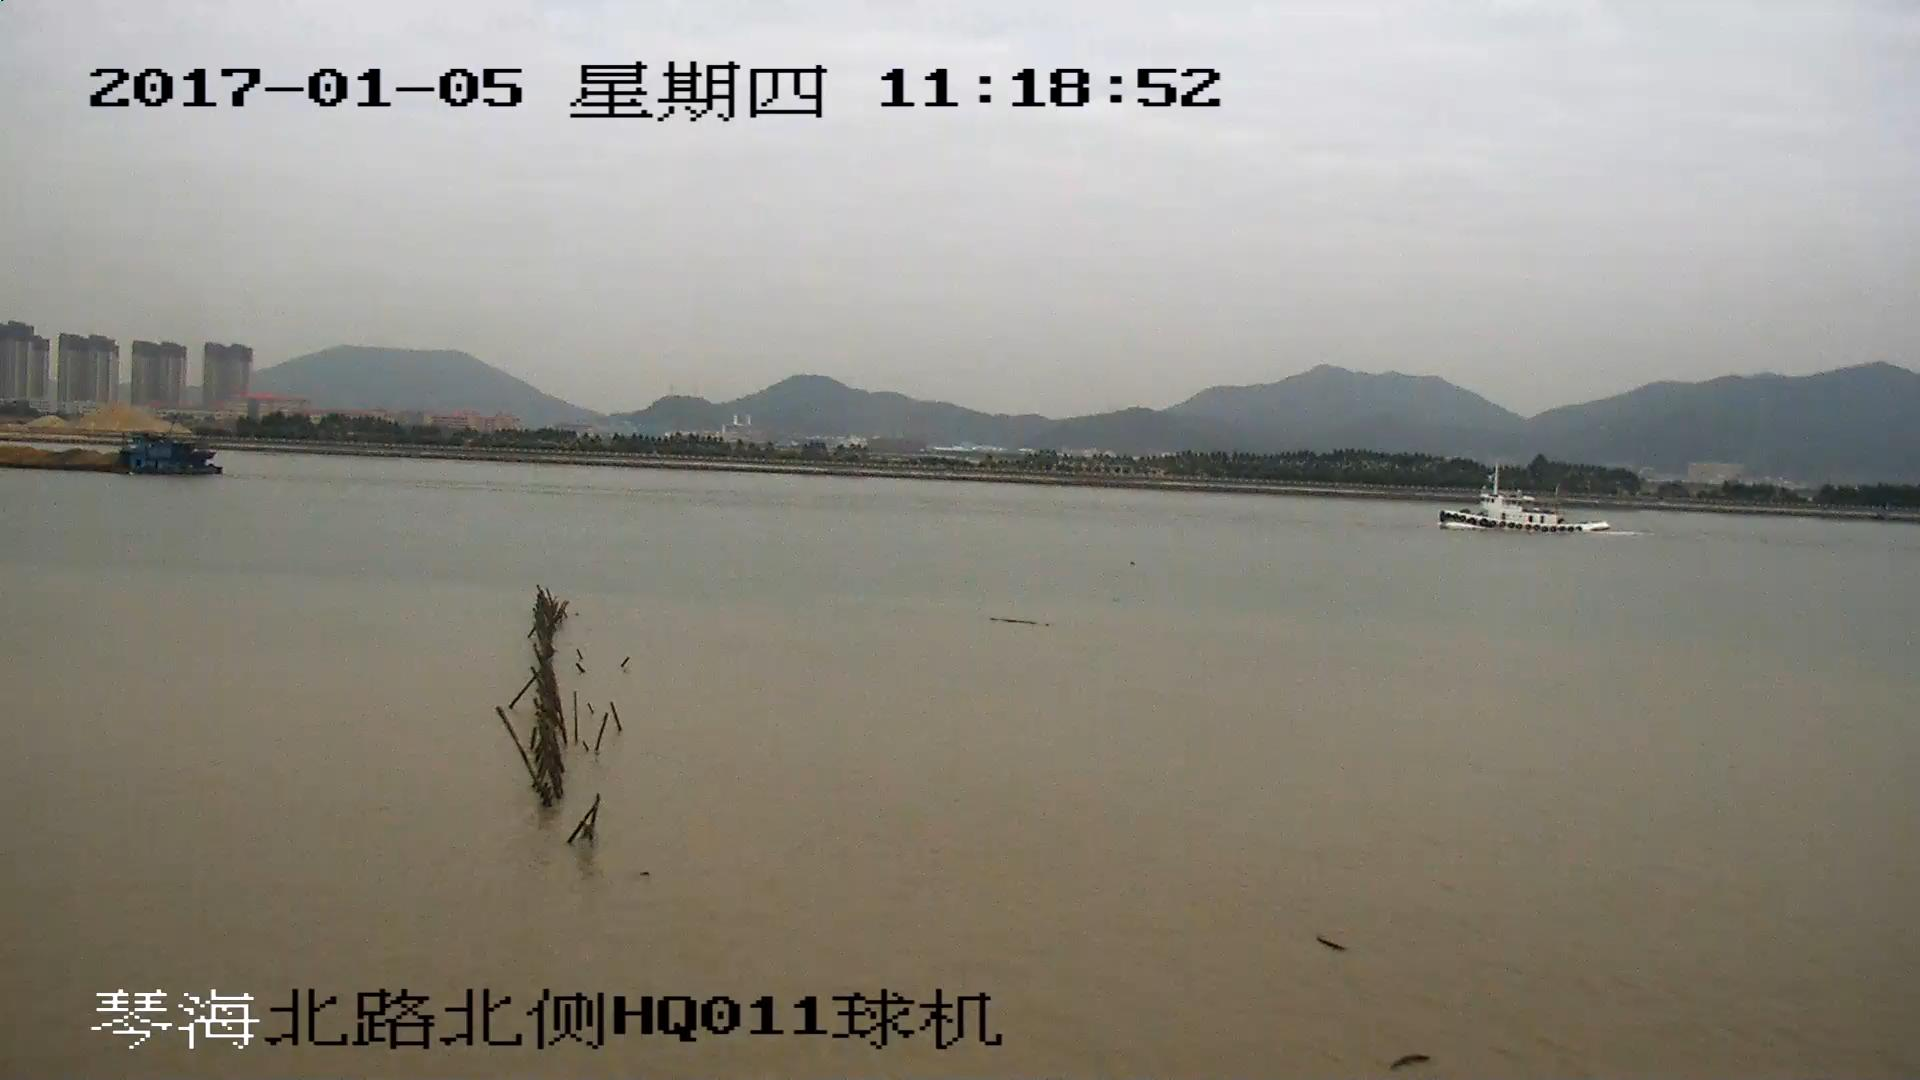fishing boat: (1442, 474, 1606, 534)
ore carrier: (1, 445, 216, 480)
